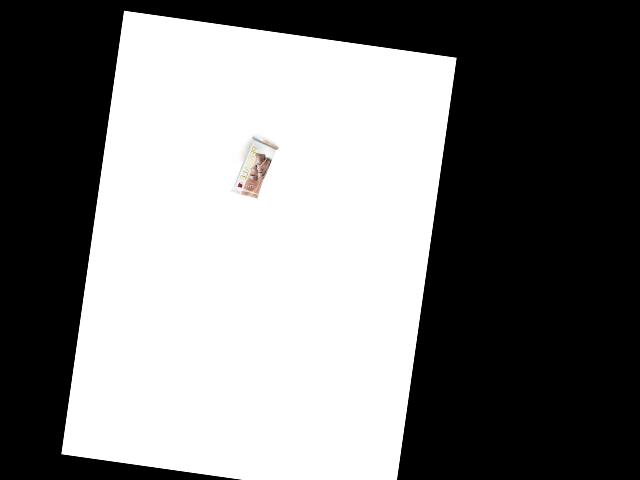chocolate: (228, 137, 283, 201)
